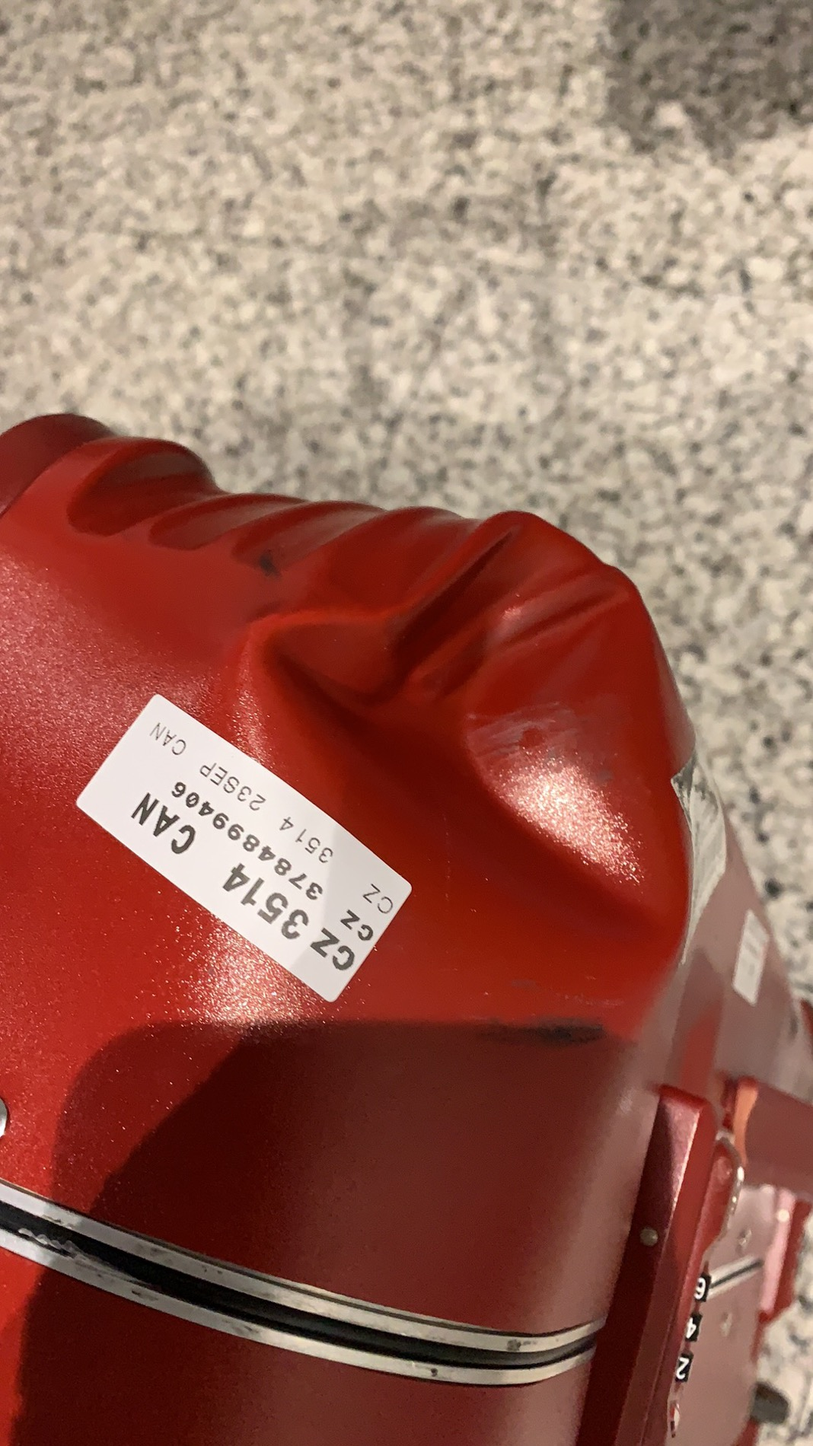rupture: (240, 510, 689, 951)
